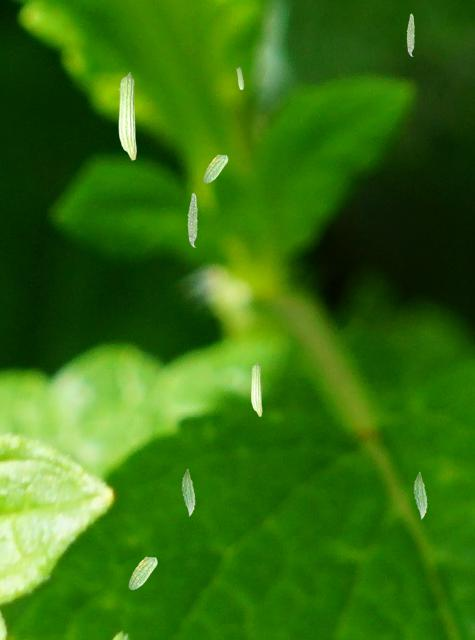ampalaya: (118, 71, 136, 160), (128, 556, 157, 590), (203, 154, 228, 183), (413, 471, 427, 519), (250, 361, 262, 417), (181, 468, 195, 516), (187, 192, 198, 247), (406, 13, 415, 57), (236, 66, 244, 90)
